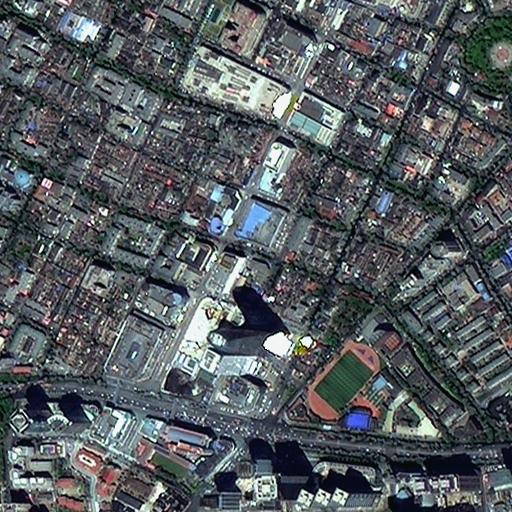school: (277, 310, 486, 438), (126, 436, 197, 485)
